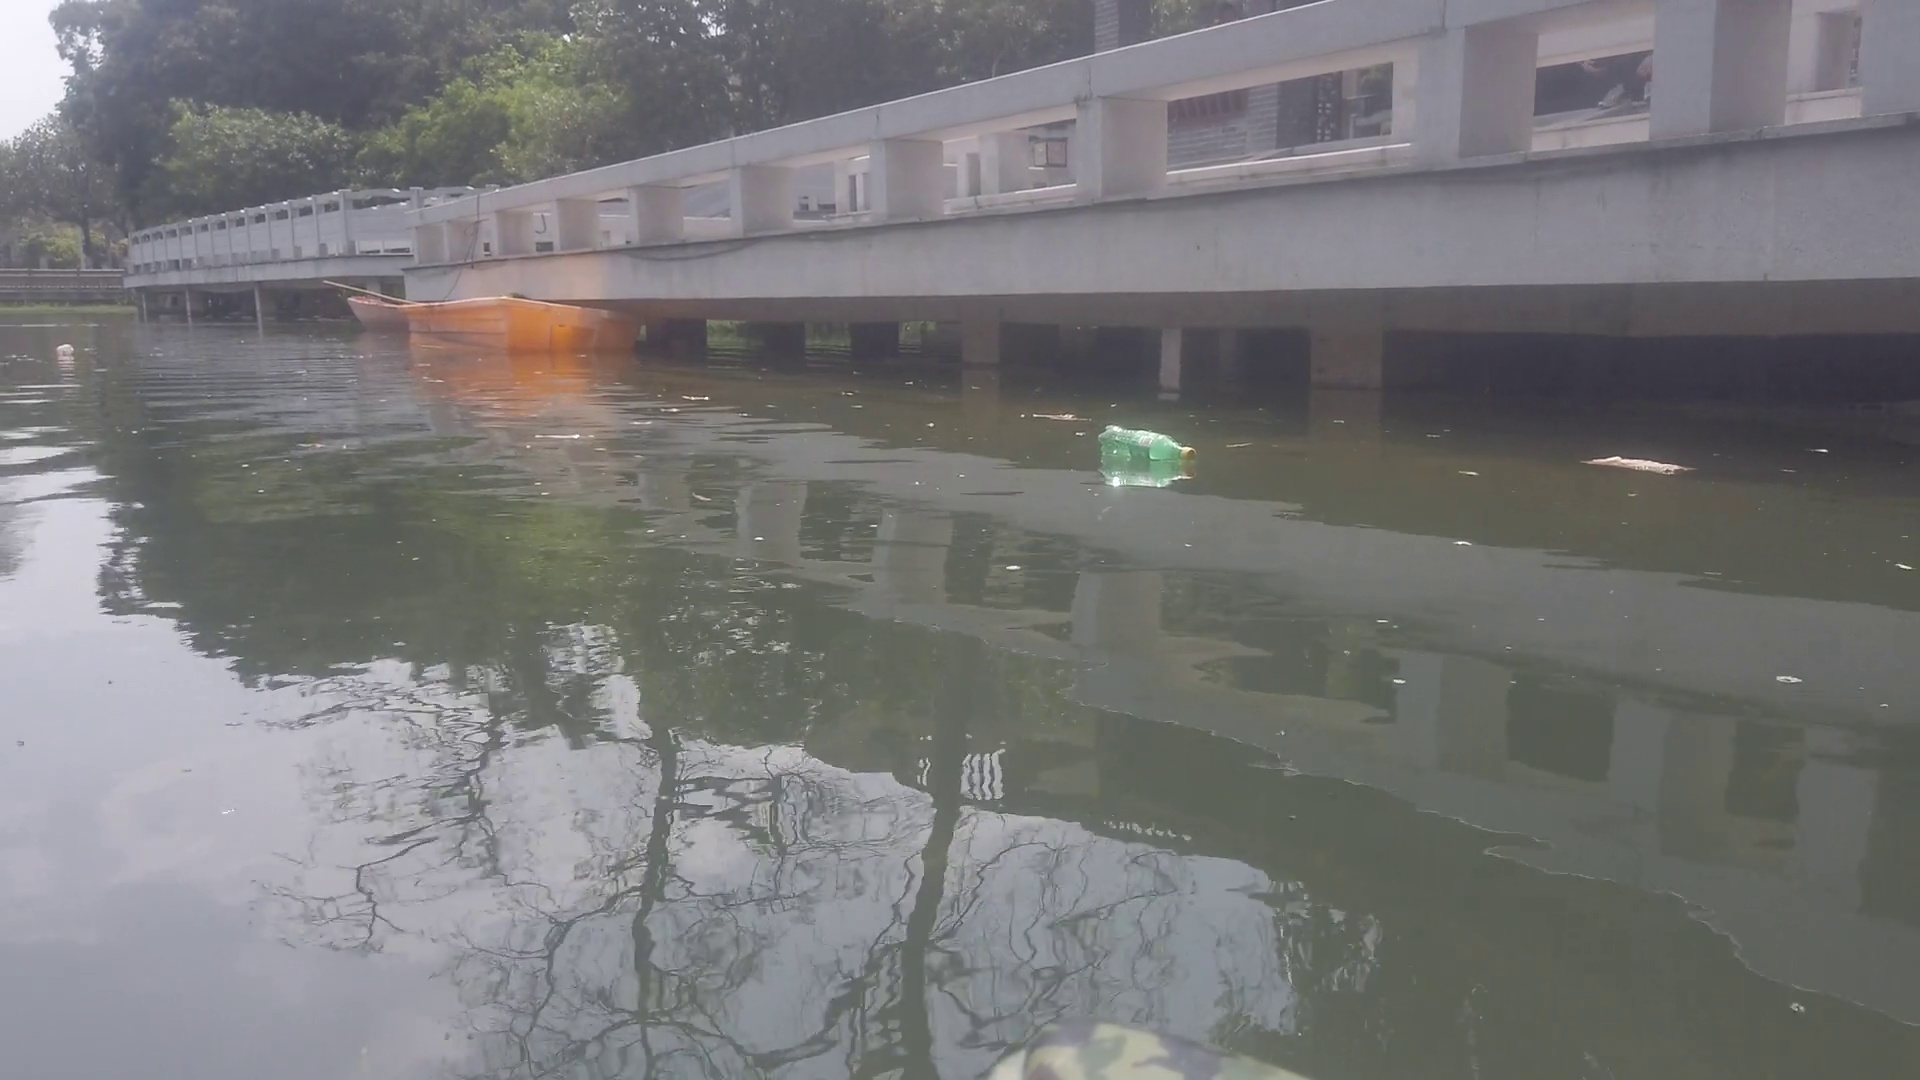bottle: (1098, 421, 1199, 469), (54, 342, 76, 356)
paper: (1585, 448, 1698, 483)
